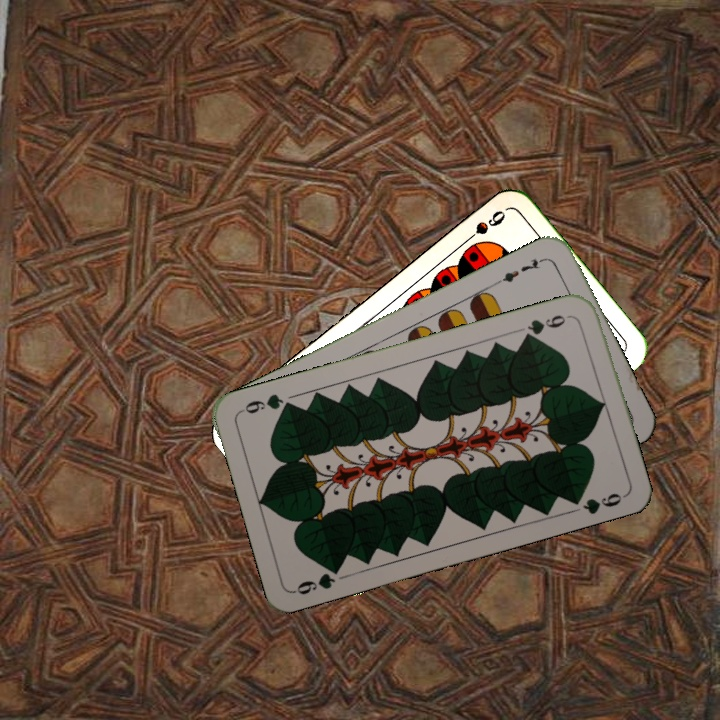E7: (492, 253, 548, 287)
G9: (290, 561, 345, 598), (519, 310, 575, 342)
S9: (458, 206, 508, 248)
